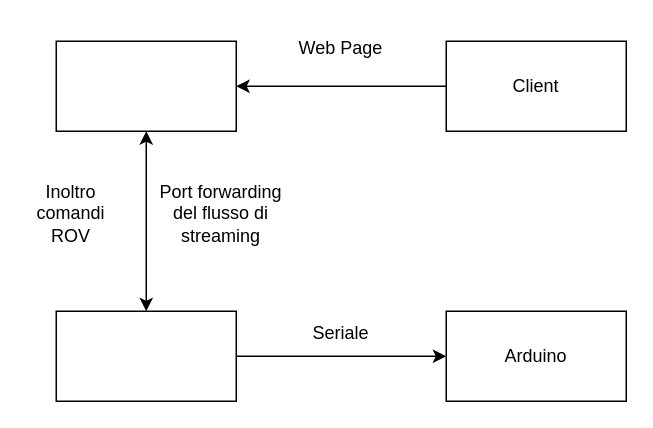
Image size: 653x428. Some labels were removed from this diagram. Each missing label, with the box of its shape:
Raspberry PI: (55, 310, 236, 401)
VPS: (55, 40, 236, 131)
